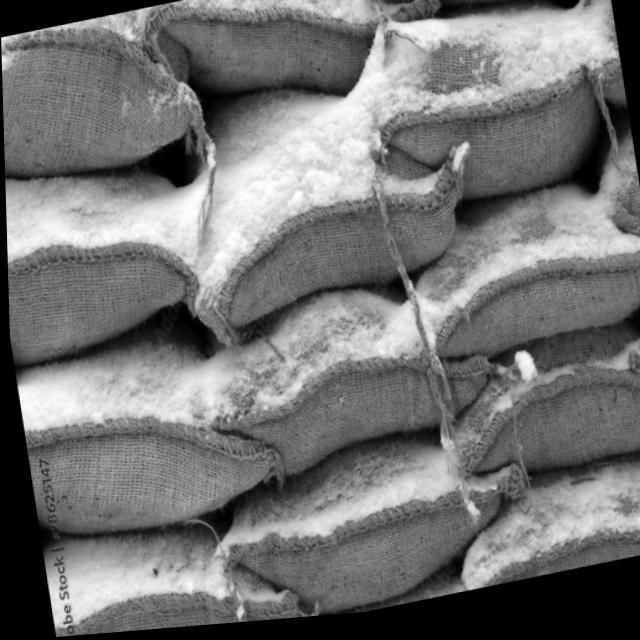sack: (165, 65, 490, 358), (197, 419, 536, 628), (178, 270, 494, 494), (349, 0, 624, 227), (11, 320, 281, 550), (397, 178, 640, 375), (4, 139, 205, 369), (140, 0, 447, 134), (0, 3, 204, 192), (38, 497, 290, 638), (433, 325, 640, 495), (443, 458, 640, 599), (363, 0, 607, 41)
